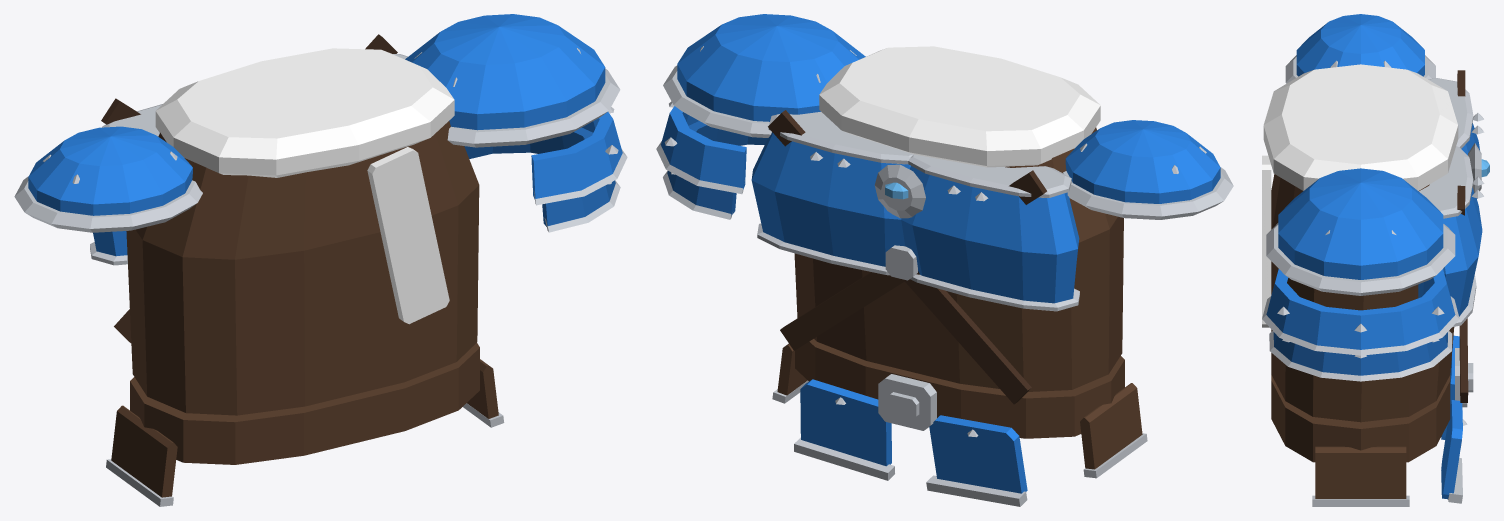
File: look3_armor_dualblade_rare.fbx
3 renders of one model, left to right at view 1: azimuth 30°, elevation 25°; view 2: azimuth 150°, elevation 25°; view 3: azimuth 270°, elevation 25°, orthographic. The views are drawn at different scales.
Visible parts, largest first — view 1: Main, Tasset; view 2: Main, Tasset; view 3: Main, Tasset.
Part boxes in pixels (x1,y1,x2,y2): Main: (14, 14, 627, 464); Tasset: (106, 359, 504, 506); Main: (656, 14, 1233, 438); Tasset: (772, 343, 1147, 506); Main: (1262, 14, 1489, 462); Tasset: (1312, 335, 1467, 506).
Size of the model in its own units: 404 by 261 by 150.
